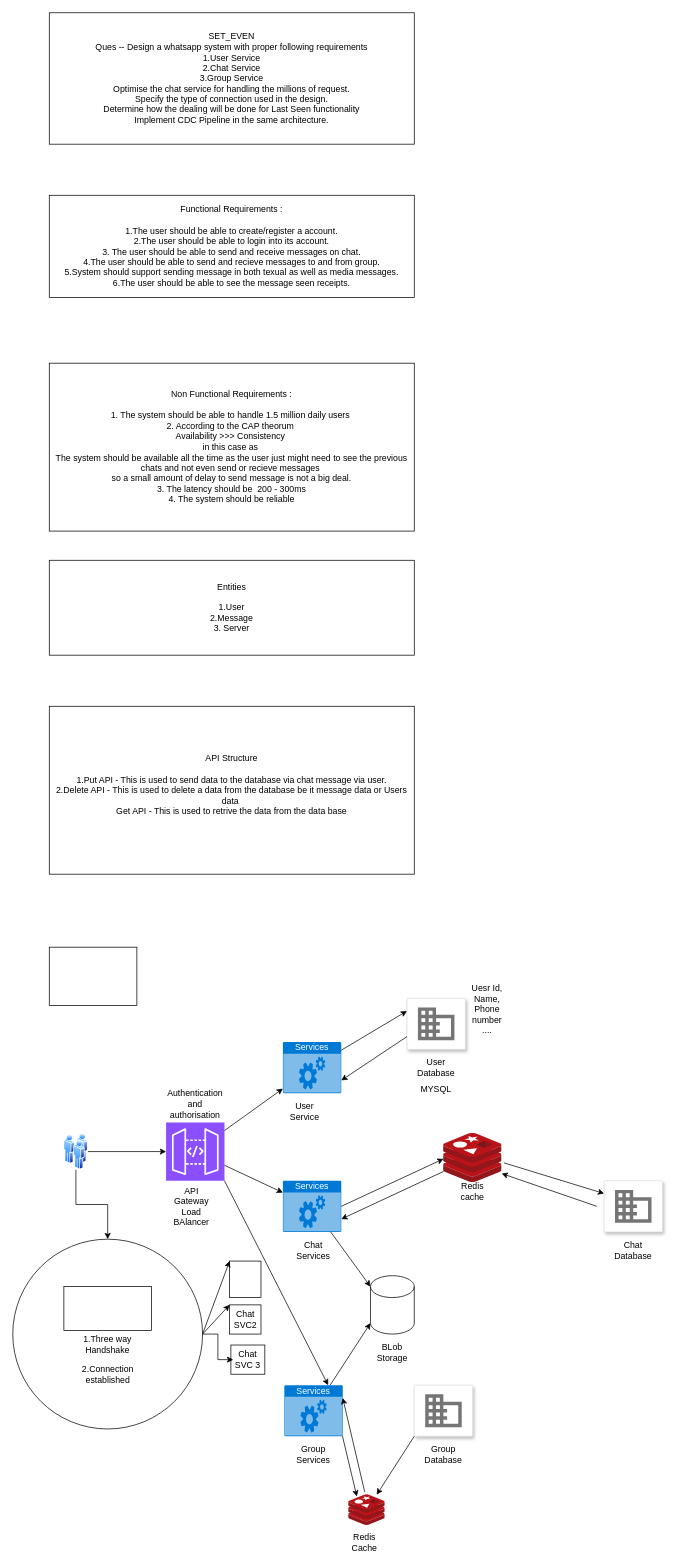
Image size: 680x1566. Some labels were removed from this diagram. The shapes that lost their labels are listed below. From the top down, each one's centre as x and y in pixels, then its label:
At pixel 93 976: "High Level Diagram".
At pixel 245 1279: "Chat SVC 1".
At pixel 107 1308: "WEBSOCKET Connection".
At pixel 392 1304: "Amazon S3".
